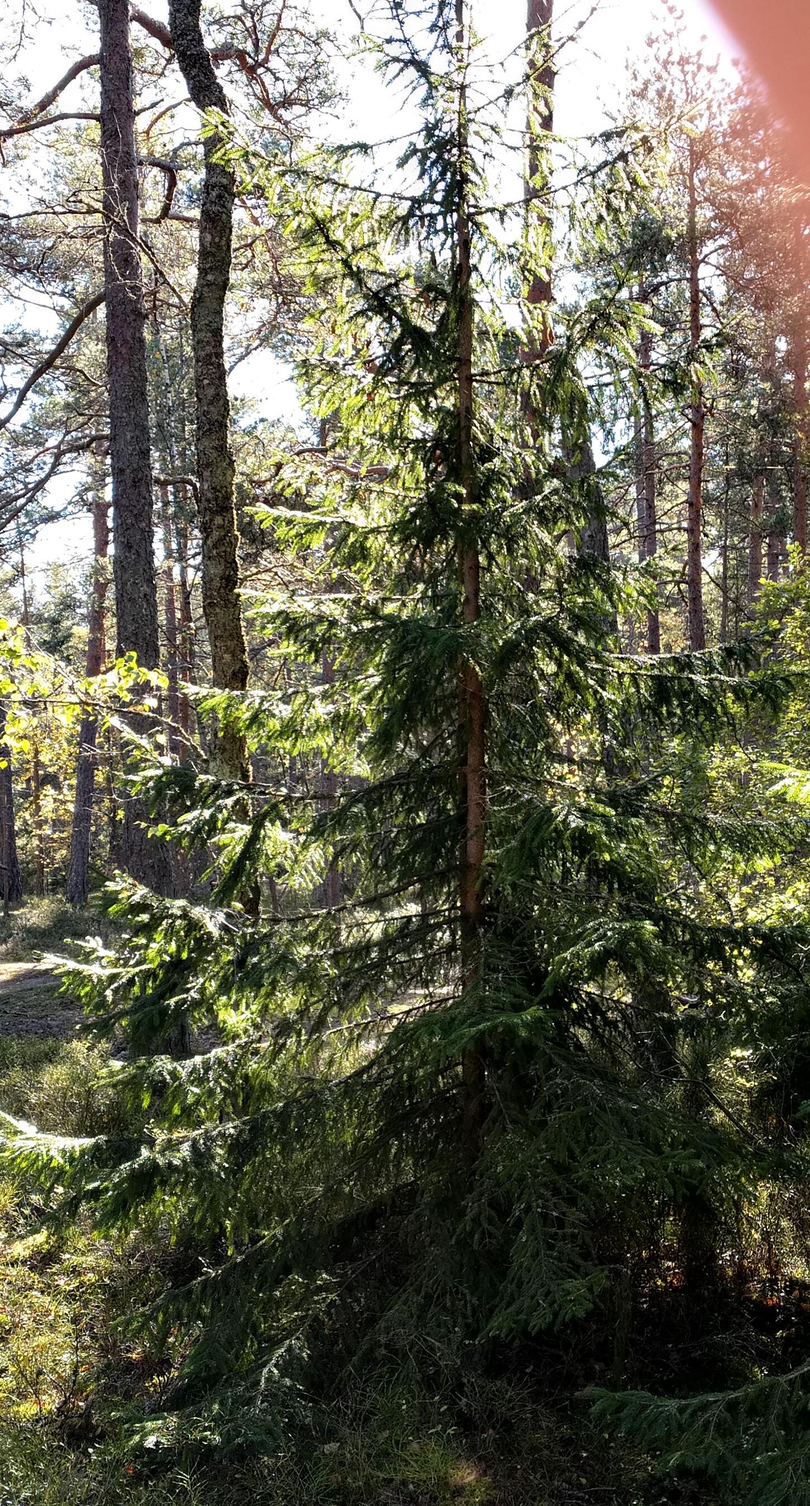Spruce: (241, 39, 763, 1421)
